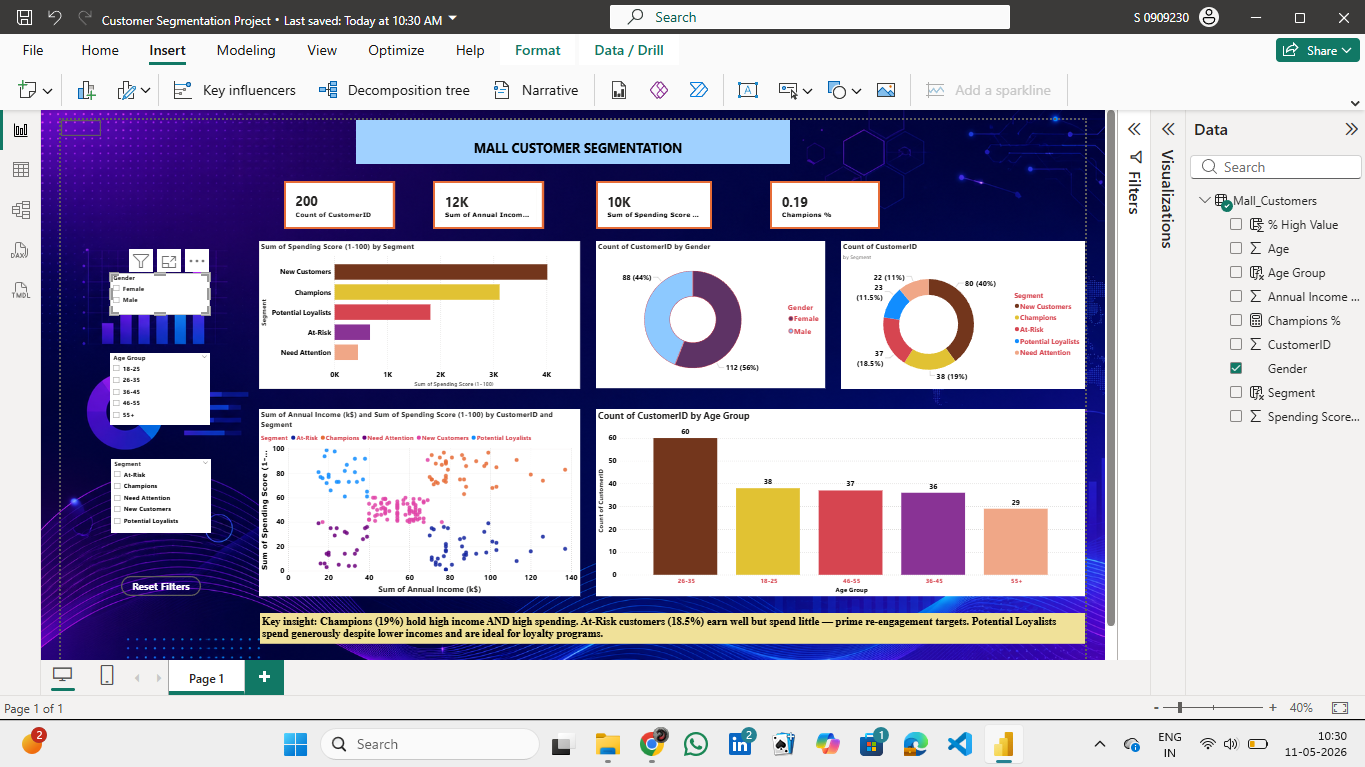

What the dashboard file says about the page in this screenshot:
{"tool":"powerbi","page":{"name":"Page 1","canvas":[2560,1440],"ordinal":0},"visuals":[{"type":"cardVisual","fields":{"Data":["CountNonNull(Mall_Customers.CustomerID)"]},"box":[557.5,152.5,277.5,120],"z":0},{"type":"cardVisual","fields":{"Data":["Sum(Mall_Customers.Annual Income (k$))"]},"box":[930,152.5,277.5,120],"z":1000},{"type":"cardVisual","fields":{"Data":["Sum(Mall_Customers.Spending Score (1-100))"]},"box":[1337.5,152.5,290,120],"z":2000},{"type":"textbox","box":[737.5,0,1085,110],"z":3000},{"type":"scatterChart","fields":{"Y":["Sum(Mall_Customers.Spending Score (1-100))"],"X":["Sum(Mall_Customers.Annual Income (k$))"],"Category":["Mall_Customers.CustomerID"],"Series":["Mall_Customers.Segment"]},"box":[495,722.5,802.5,467.5],"z":4000},{"type":"donutChart","fields":{"Category":["Mall_Customers.Segment"],"Y":["CountNonNull(Mall_Customers.CustomerID)"]},"box":[1950,302.5,610,370],"z":5000},{"type":"slicer","fields":{"Values":["Mall_Customers.Gender"]},"box":[122.5,382.5,250,105],"z":6000},{"type":"slicer","fields":{"Values":["Mall_Customers.Age Group"]},"box":[122.5,582.5,250,180],"z":7000},{"type":"slicer","fields":{"Values":["Mall_Customers.Segment"]},"box":[125,847.5,250,185],"z":8000},{"type":"donutChart","fields":{"Category":["Mall_Customers.Gender"],"Y":["CountNonNull(Mall_Customers.CustomerID)"]},"box":[1337.5,302.5,572.5,367.5],"z":9000},{"type":"clusteredBarChart","fields":{"Category":["Mall_Customers.Segment"],"Y":["Sum(Mall_Customers.Spending Score (1-100))"]},"box":[495,302.5,802.5,370],"z":10000},{"type":"clusteredColumnChart","fields":{"Category":["Mall_Customers.Age Group"],"Y":["CountNonNull(Mall_Customers.CustomerID)"]},"box":[1337.5,722.5,1222.5,467.5],"z":11000},{"type":"cardVisual","fields":{"Data":["Mall_Customers.Champions %"]},"box":[1772.5,152.5,275,120],"z":12000},{"type":"actionButton","box":[0,0,100,40],"z":13000},{"type":"actionButton","box":[150,1140,200,50],"z":14000},{"type":"textbox","box":[496.7,1233.3,2063.3,76.7],"z":14001}]}

Visuals, with their boxes on the page's 2560x1440 design canvas (x1, y1, x2, y2). These are canvas units, not pixel positions in the 1365x767 screenshot, which may show the page scaled, cropped or inside an application window:
cardVisual - CountNonNull(Mall_Customers.CustomerID): 558:152:835:272
cardVisual - Sum(Mall_Customers.Annual Income (k$)): 930:152:1208:272
cardVisual - Sum(Mall_Customers.Spending Score (1-100)): 1338:152:1628:272
textbox: 738:0:1822:110
scatterChart - Sum(Mall_Customers.Spending Score (1-100)) x Sum(Mall_Customers.Annual Income (k$)): 495:722:1298:1190
donutChart - Mall_Customers.Segment x CountNonNull(Mall_Customers.CustomerID): 1950:302:2560:672
slicer - Mall_Customers.Gender: 122:382:372:488
slicer - Mall_Customers.Age Group: 122:582:372:762
slicer - Mall_Customers.Segment: 125:848:375:1032
donutChart - Mall_Customers.Gender x CountNonNull(Mall_Customers.CustomerID): 1338:302:1910:670
clusteredBarChart - Mall_Customers.Segment x Sum(Mall_Customers.Spending Score (1-100)): 495:302:1298:672
clusteredColumnChart - Mall_Customers.Age Group x CountNonNull(Mall_Customers.CustomerID): 1338:722:2560:1190
cardVisual - Mall_Customers.Champions %: 1772:152:2048:272
actionButton: 0:0:100:40
actionButton: 150:1140:350:1190
textbox: 497:1233:2560:1310
